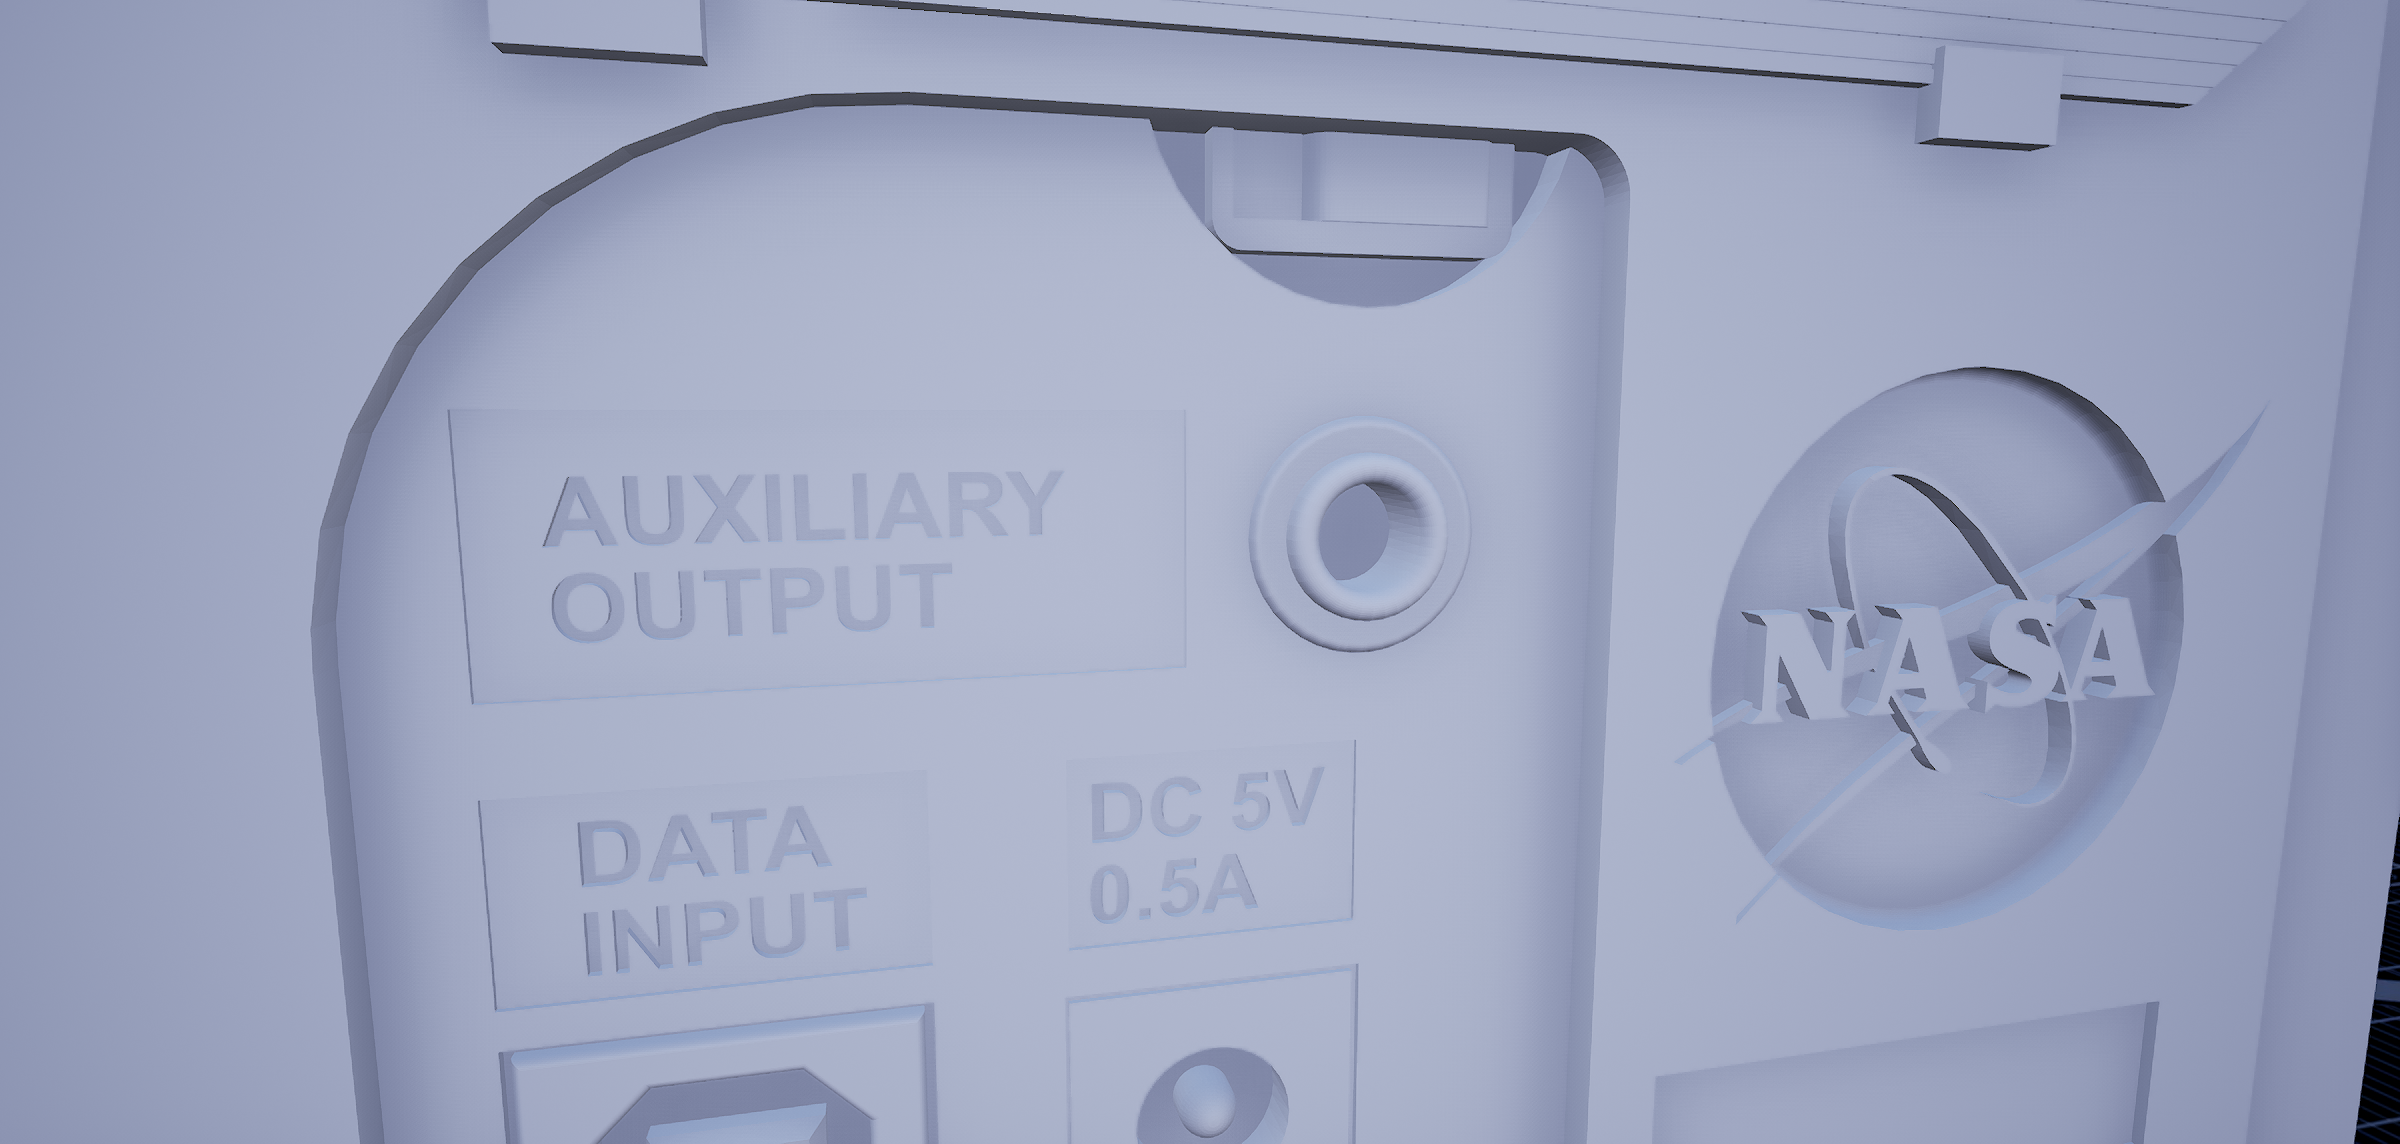aux: (1247, 409, 1483, 672)
dc: (1123, 1035, 1309, 1144)
usb: (574, 1070, 883, 1144)
